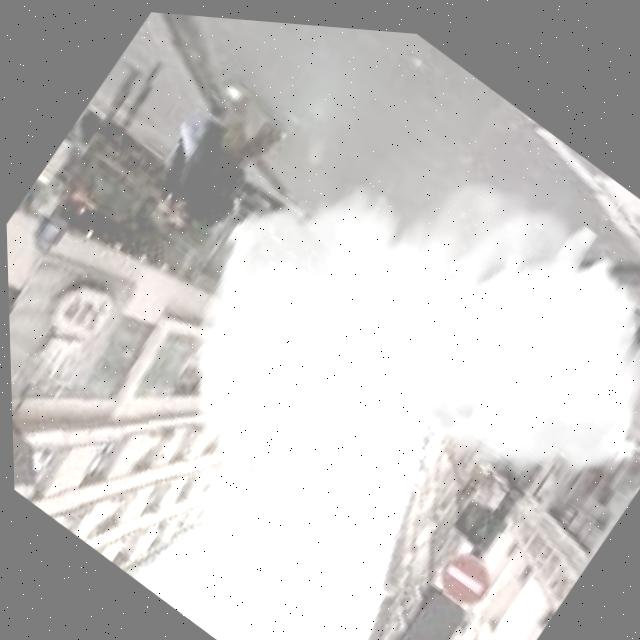Smoke: (111, 43, 640, 640)
